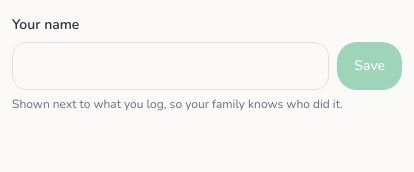
OwnNameField › lets someone with no name yet set one
Type "Barbara" into the field labelled "Your name" at (171, 66), box [12,42,329,90]
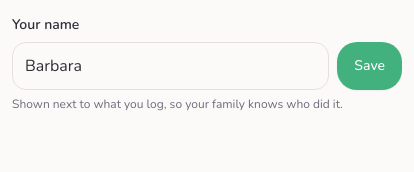
expect the button "Save" is enabled: met, box [337,42,402,90]
